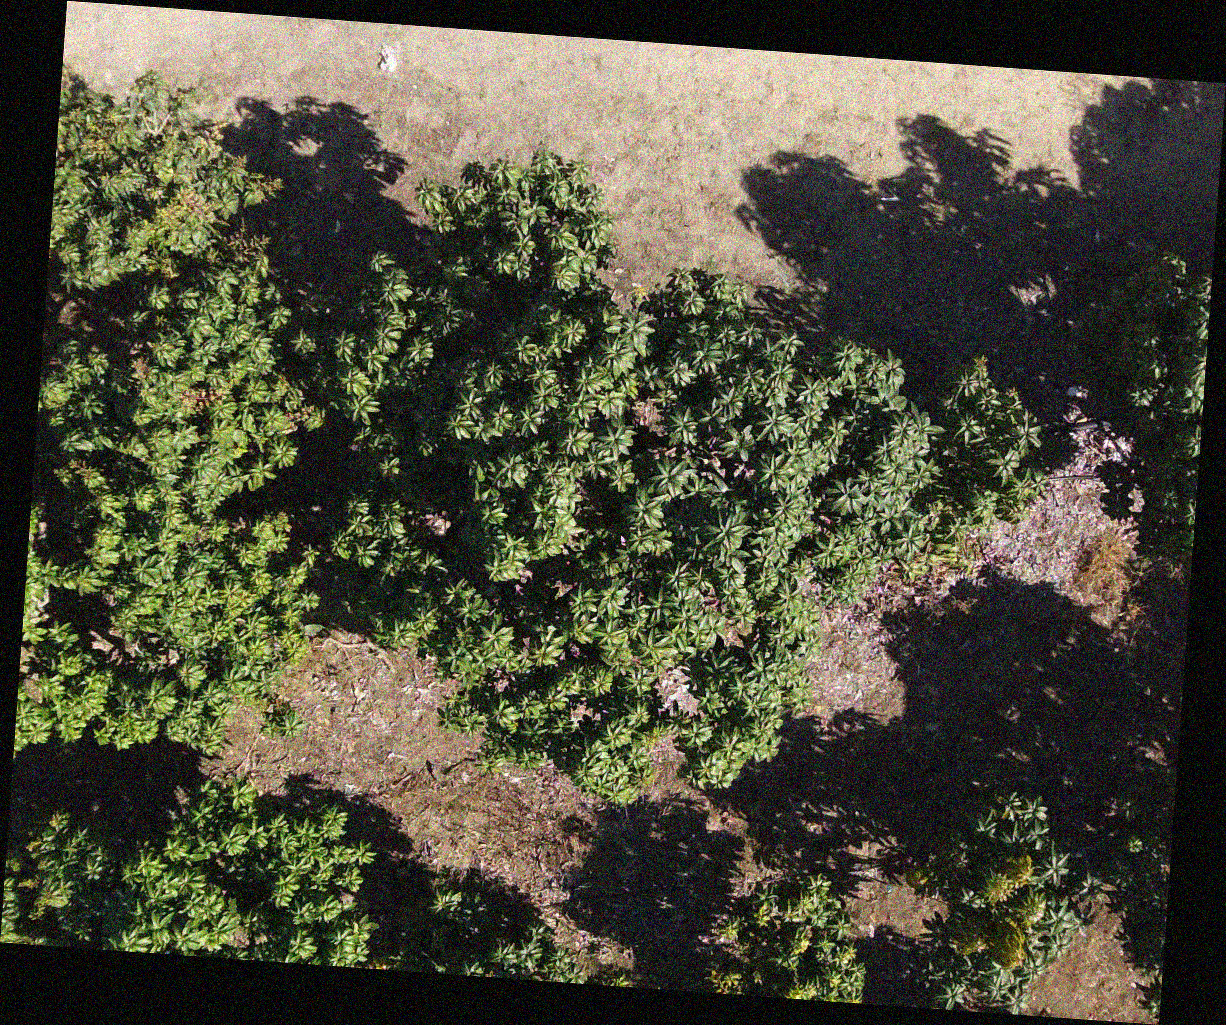flowers: (951, 888, 1044, 969), (156, 187, 238, 247), (982, 853, 1033, 905), (225, 224, 268, 261), (241, 173, 281, 207), (179, 385, 221, 412), (20, 644, 34, 675), (363, 960, 390, 970)
